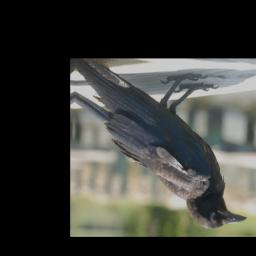Crow: (72, 59, 254, 230)
